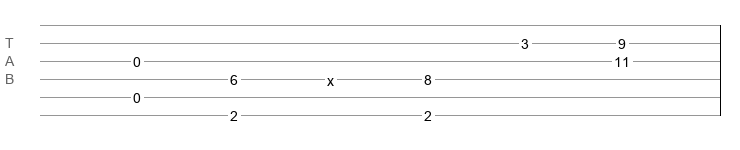0: (133, 54, 141, 64), (133, 90, 141, 100)
11: (614, 54, 630, 64)
2: (230, 108, 238, 118), (424, 108, 432, 118)
3: (521, 36, 529, 46)
6: (230, 72, 238, 82)
8: (424, 72, 432, 82)
9: (618, 36, 626, 46)
x: (327, 73, 334, 81)
